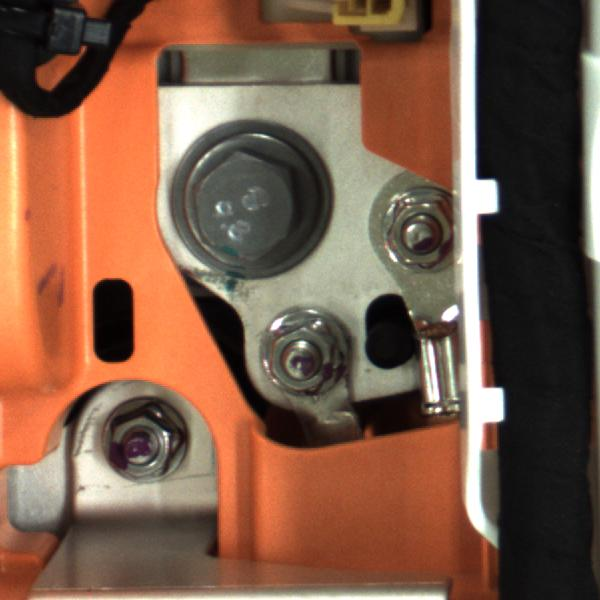nut_b: (167, 116, 337, 286)
screw_s: (253, 305, 355, 406), (97, 395, 192, 491), (372, 183, 465, 275)
